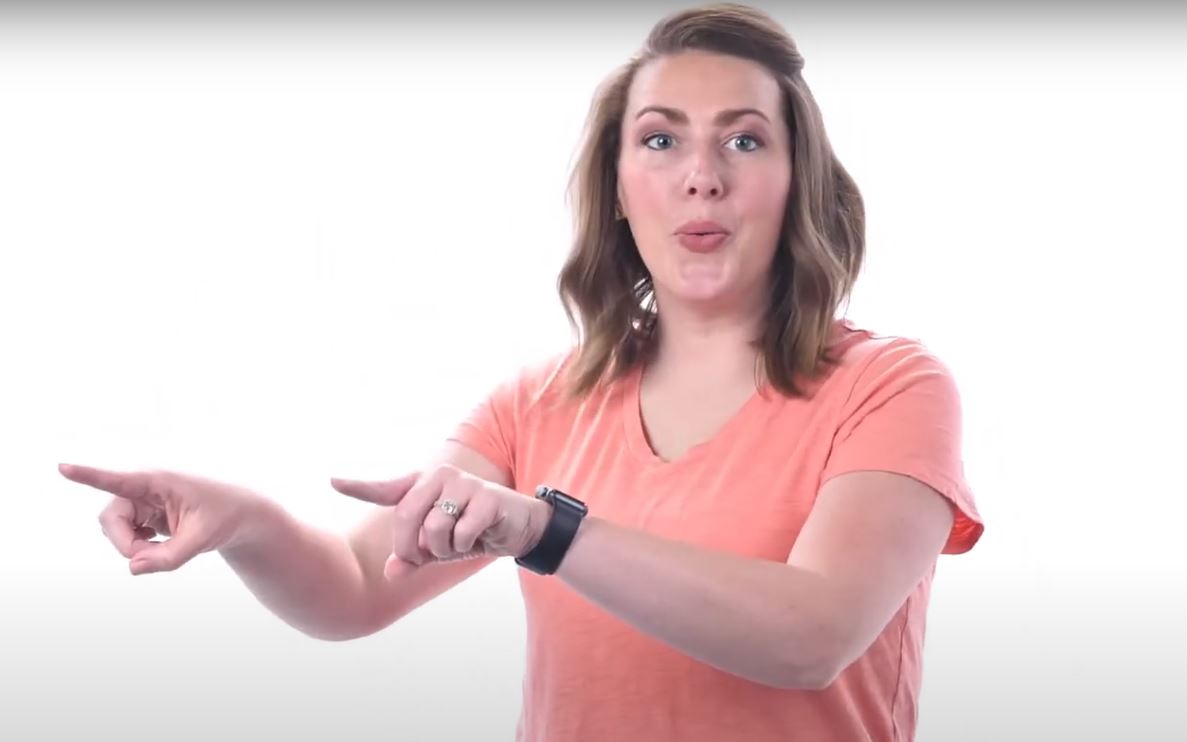go: (25, 427, 563, 645)
